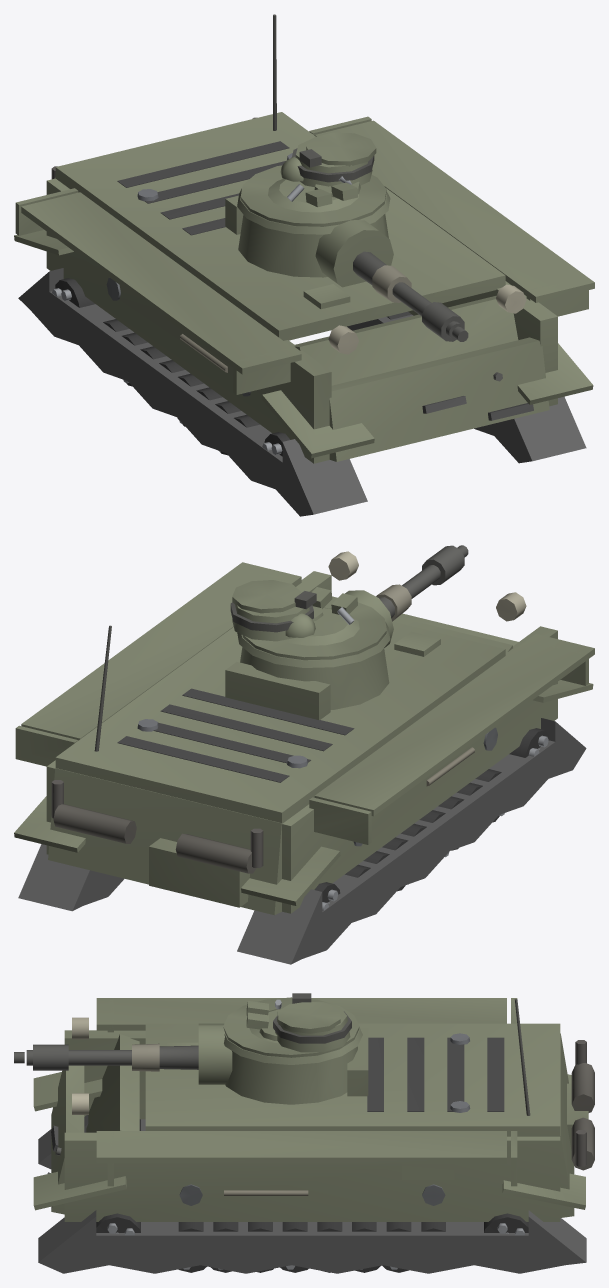
3 renders of one model, top to bottom at view 1: azimuth 30°, elevation 25°; view 2: azimuth 150°, elevation 25°; view 3: azimuth 270°, elevation 25°, orthographic. The views are drawn at different scales.
Visible parts, largest first — view 1: hullSide, hullTop, tracks, lowerPlate, glacis, turretRoof, turretFront, barrel, mantlet, turretSide, wheel9; view 2: hullSide, hullTop, tracks, hullRear, turretRoof, turretRear, turretFront, barrel, glacis, turretSide, wheel8, mantlet (+1 smaller); view 3: hullSide, hullTop, tracks, turretRoof, turretFront, hullRear, barrel, glacis, lowerPlate, mantlet, turretSide, turretRear (+4 smaller).
Boxes of the visible parts, x1,y1,x2,y2 form: hullSide: [15, 116, 594, 463]; hullTop: [55, 112, 505, 340]; tracks: [14, 230, 593, 516]; lowerPlate: [329, 337, 549, 461]; glacis: [294, 284, 533, 420]; turretRoof: [241, 132, 386, 226]; turretFront: [238, 214, 388, 277]; barrel: [353, 251, 468, 341]; mantlet: [315, 220, 393, 287]; turretSide: [237, 188, 390, 234]; wheel9: [52, 278, 94, 307]; hullSide: [15, 551, 594, 913]; hullTop: [55, 621, 505, 822]; tracks: [14, 680, 593, 964]; hullRear: [48, 625, 284, 915]; turretRoof: [230, 580, 386, 660]; turretRear: [225, 662, 330, 719]; turretFront: [240, 647, 389, 709]; barrel: [376, 545, 468, 621]; glacis: [393, 617, 512, 656]; turretSide: [237, 621, 390, 667]; wheel8: [509, 728, 549, 757]; mantlet: [345, 590, 393, 647]; hullSide: [64, 998, 560, 1221]; hullTop: [145, 1023, 560, 1136]; tracks: [33, 1072, 586, 1273]; turretRoof: [223, 993, 359, 1057]; turretFront: [225, 1046, 357, 1104]; hullRear: [514, 999, 594, 1217]; barrel: [14, 1043, 198, 1071]; glacis: [47, 1034, 198, 1173]; lowerPlate: [51, 1065, 84, 1214]; mantlet: [198, 1023, 232, 1084]; turretSide: [224, 1027, 362, 1064]; turretRear: [347, 1028, 368, 1096].
Size of the model in its own units: 3.58 by 2.65 by 5.51.
